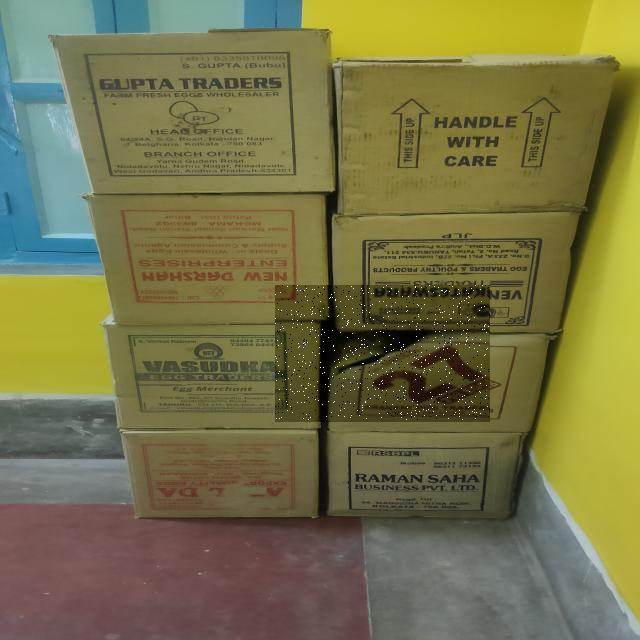squeeze: (276, 286, 489, 420)
